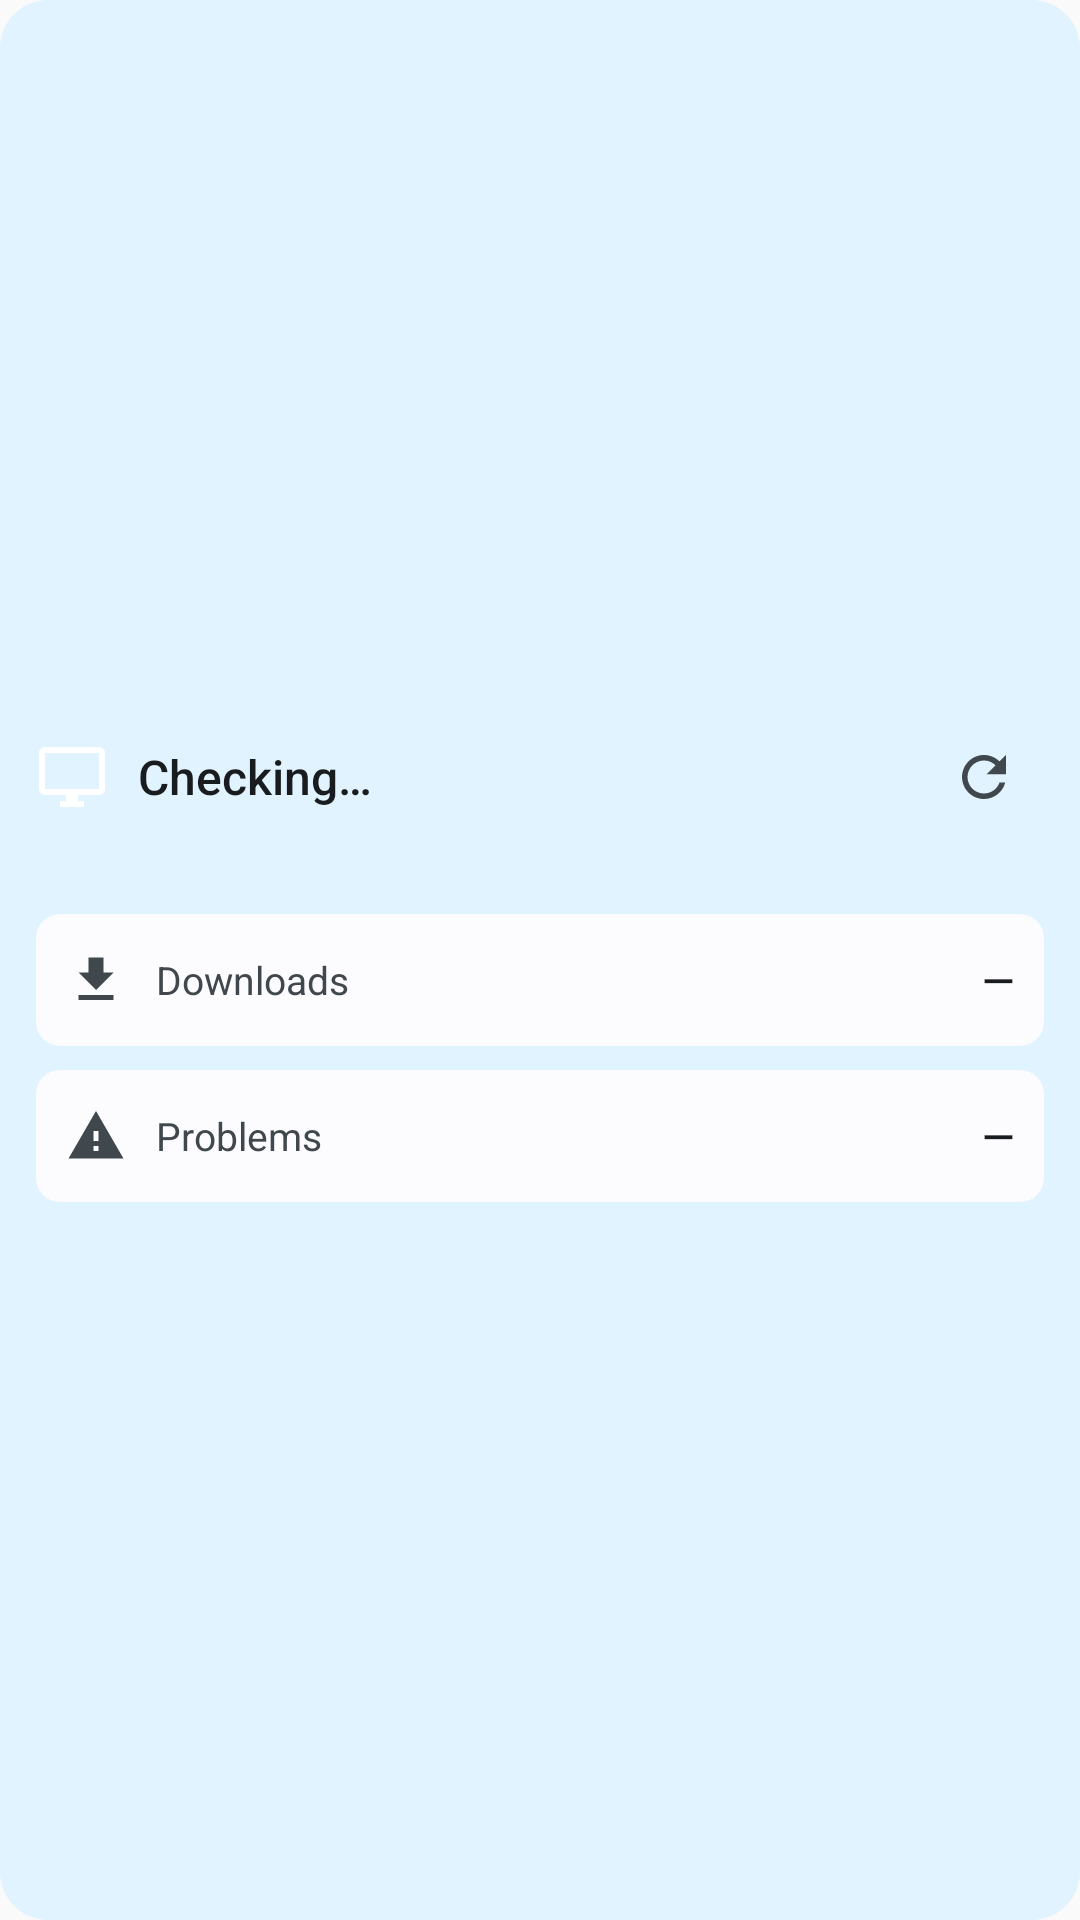

Named icons in this screenshot (1080w x 1920h) and their bounding boxes, (x1, y1, x2, y2):
Refresh: (962, 755, 1006, 799)
widget download: (78, 957, 114, 1000)
widget pc: (39, 747, 105, 807)
widget problem: (68, 1111, 124, 1159)
